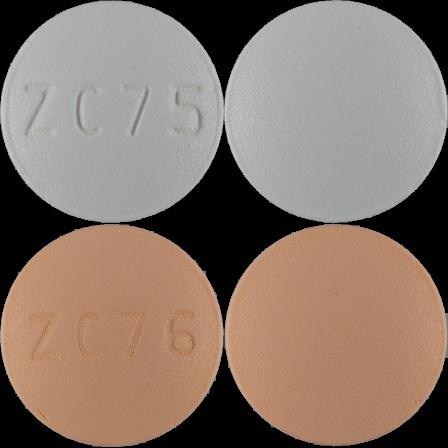67046-655: (0, 0, 224, 224)
